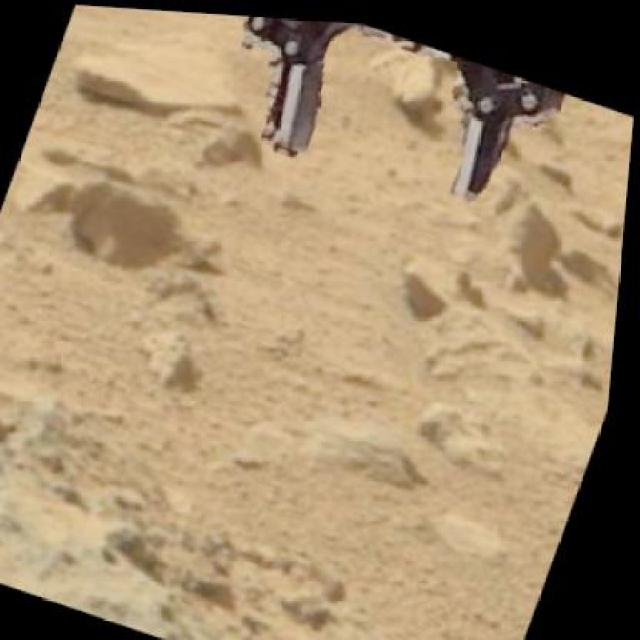rock: (0, 364, 569, 638), (55, 3, 260, 142), (51, 160, 215, 292), (352, 23, 474, 125)
